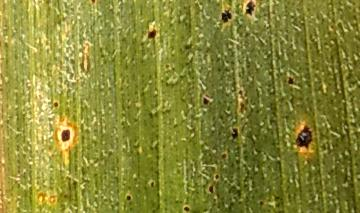tarspot: (293, 124, 314, 150), (220, 8, 233, 26), (244, 1, 257, 18), (61, 125, 71, 147), (228, 126, 241, 141), (198, 95, 213, 108), (145, 28, 159, 41), (218, 149, 230, 163), (206, 182, 215, 197), (286, 74, 295, 88), (50, 98, 61, 109), (211, 172, 221, 183), (147, 180, 158, 190), (123, 193, 134, 202), (182, 204, 192, 213)
